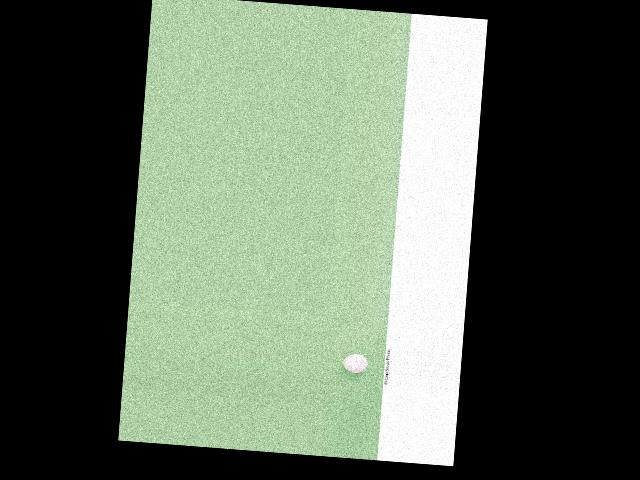egg: (342, 353, 368, 373)
